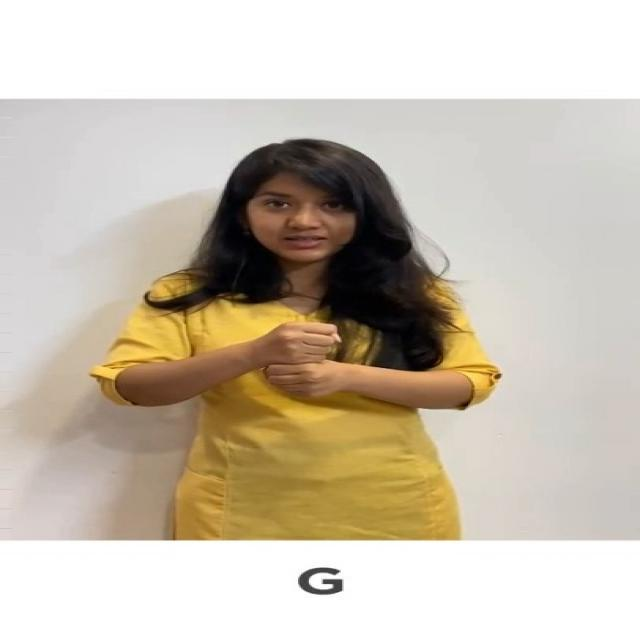G: (224, 311, 402, 417)
